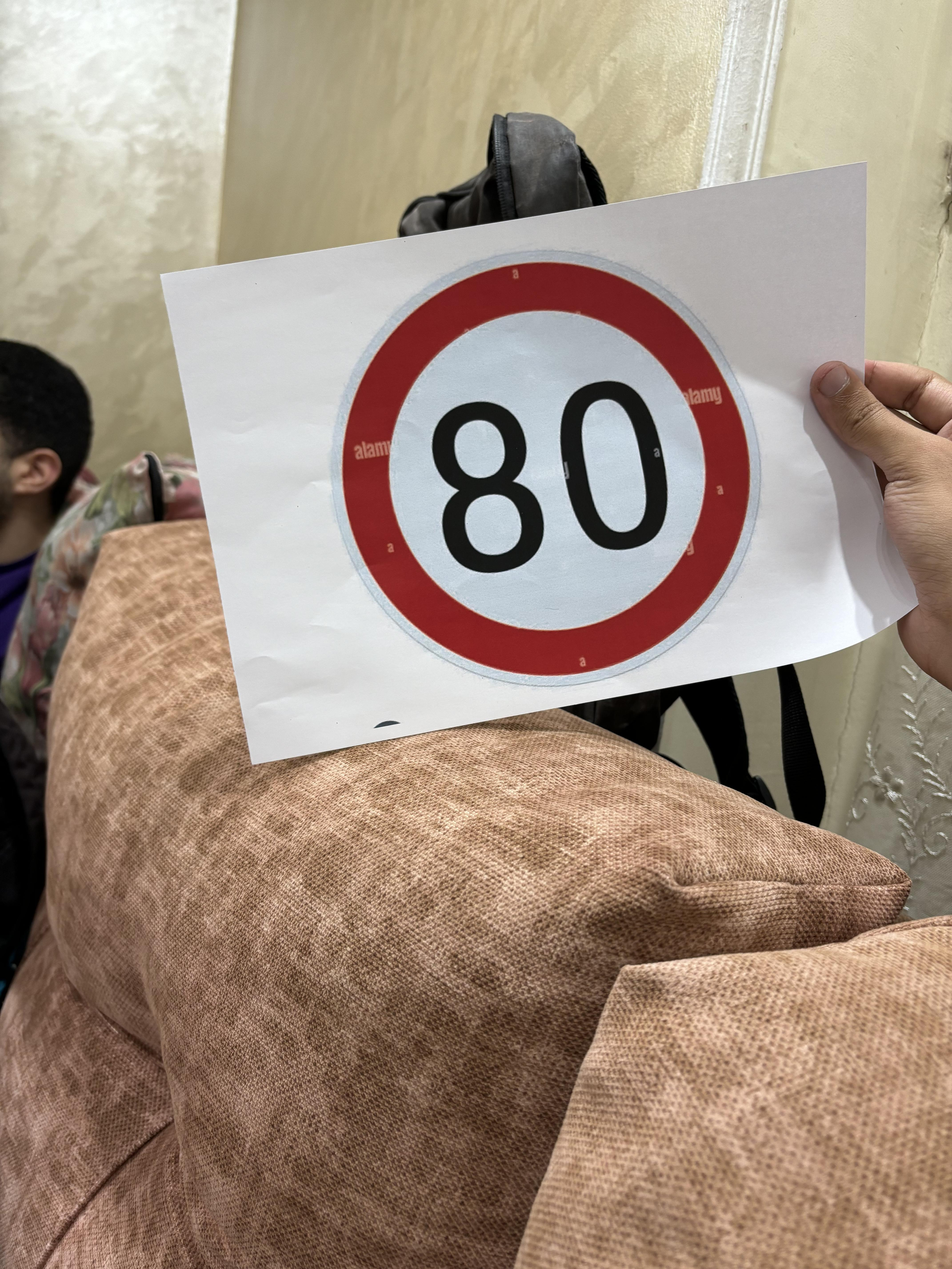80-Speed: (327, 251, 763, 680)
